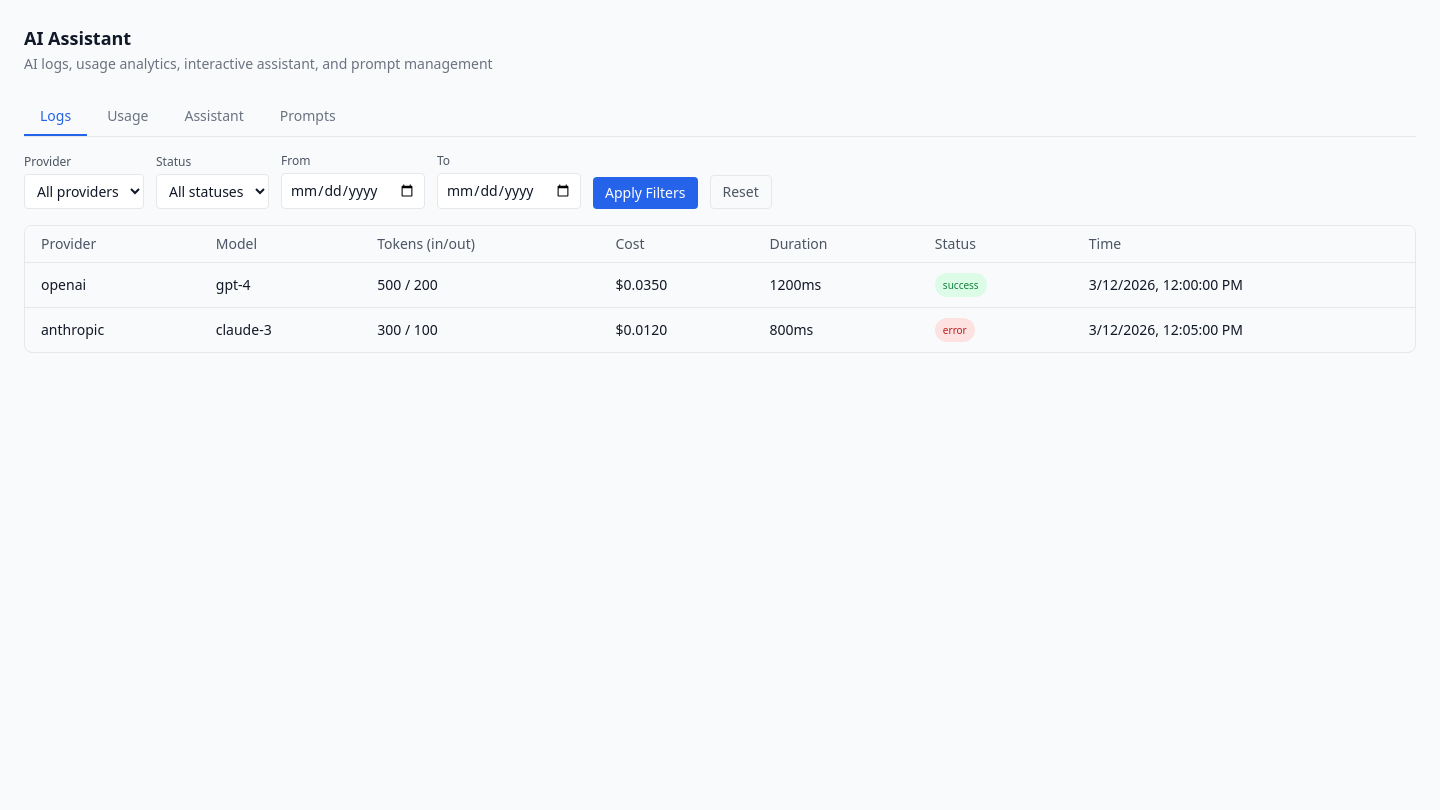
Test: AIAssistant › switches to prompts tab and shows prompt list
The image size is (1440, 810).
Expected: the text "openai" is shown, [25, 262, 200, 308]
Click the button "Prompts" at (308,117), box [264, 98, 352, 136]
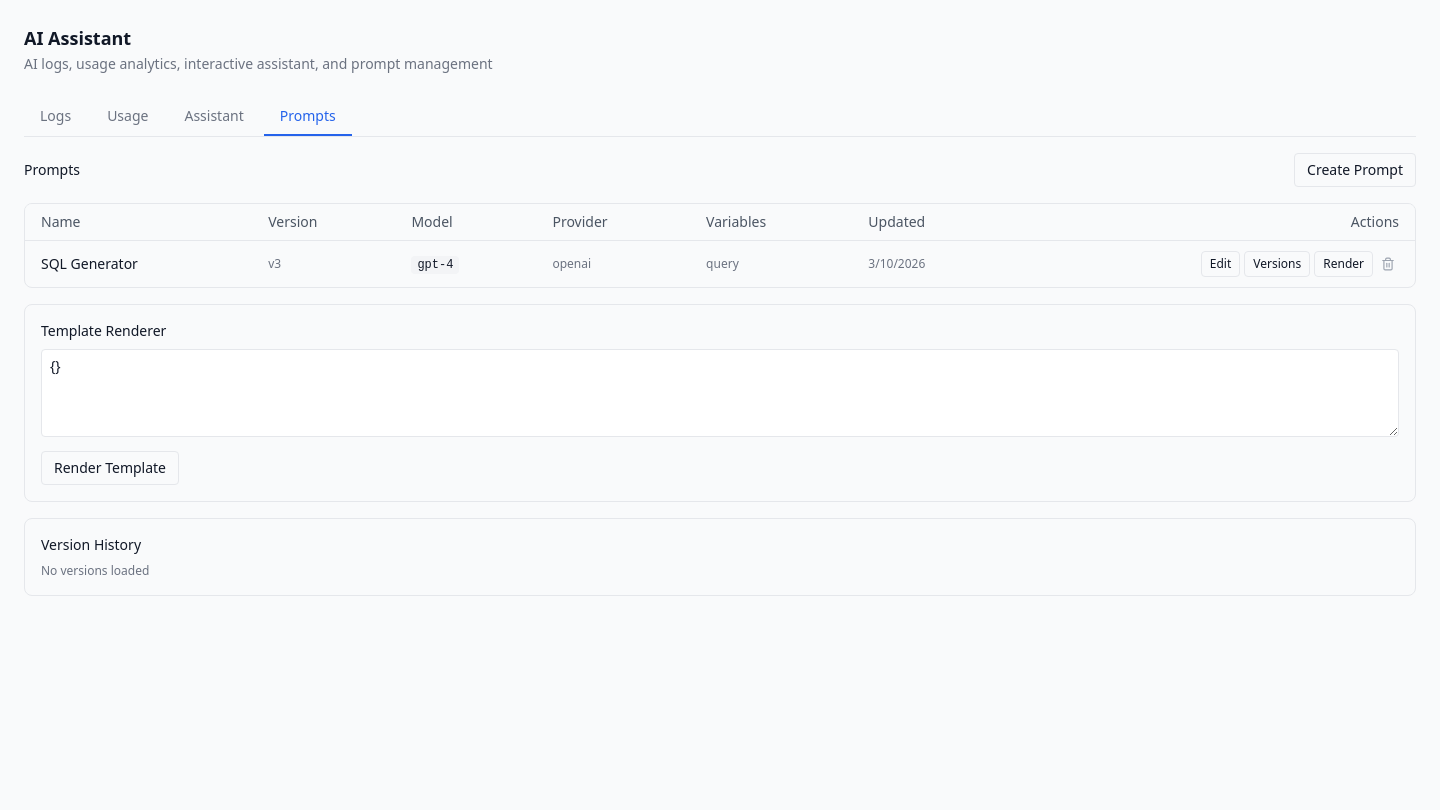
Now the text "SQL Generator" is shown, box [25, 240, 252, 287]
